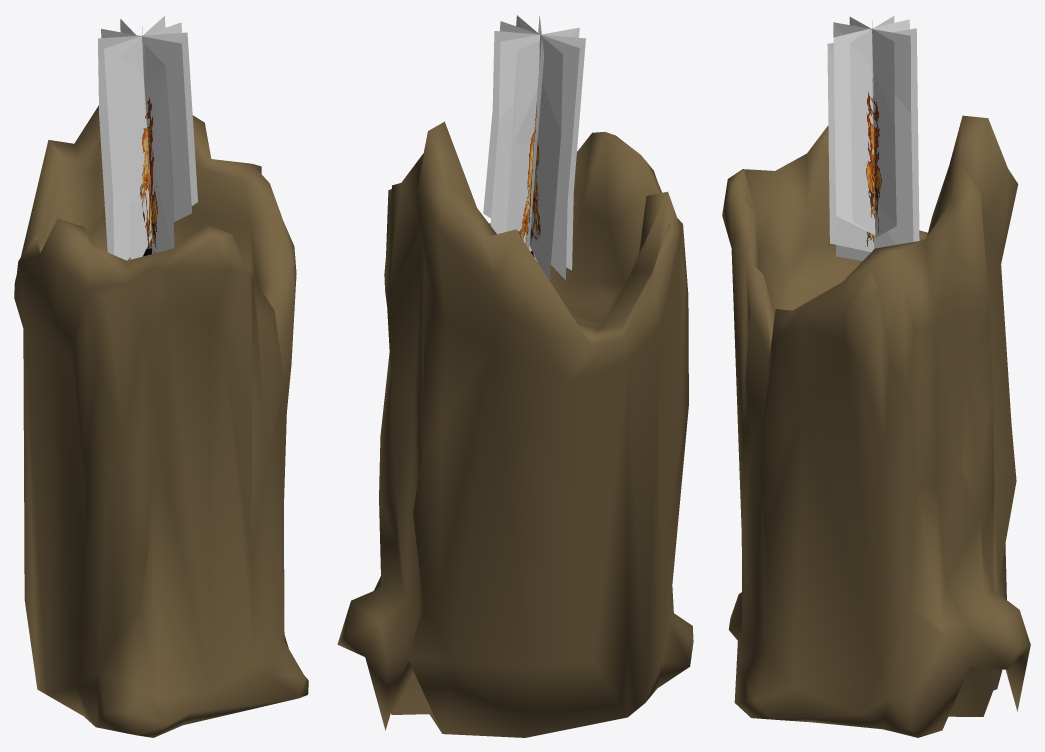
File: Candle_3.fbx
The picture shows the model from 3 angles, left to right: view 1: azimuth 30°, elevation 25°; view 2: azimuth 150°, elevation 25°; view 3: azimuth 270°, elevation 25°; orthographic projection. The views are drawn at different scales.
Visible parts, largest first — view 1: Candle 3; view 2: Candle 3; view 3: Candle 3.
Boxes of the visible parts, box(x1,y1,x2,y2) form: Candle 3: box(14, 16, 308, 737); Candle 3: box(337, 15, 693, 737); Candle 3: box(722, 16, 1030, 737).
Size of the model in its own units: 32.77 by 76.72 by 33.09.
